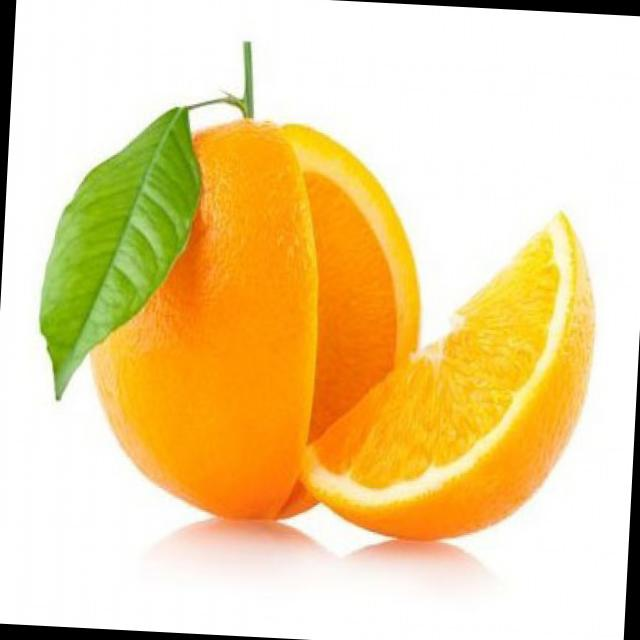orange: (76, 118, 438, 560)
